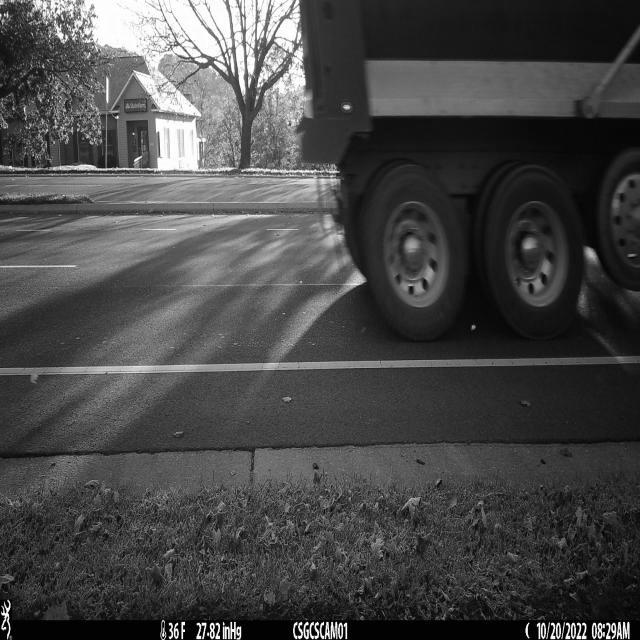Truck- Multi-Axle: (299, 0, 640, 343)
